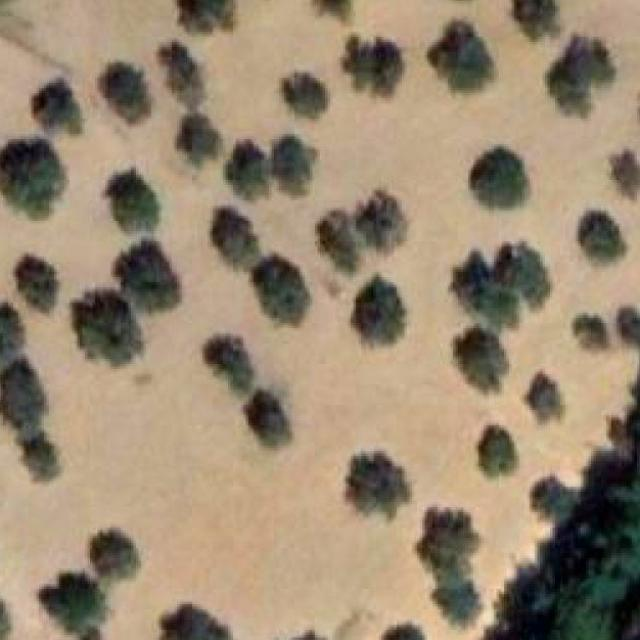Tree: (417, 507, 483, 626), (542, 32, 613, 116), (0, 137, 70, 216), (72, 295, 145, 366), (113, 239, 181, 313), (38, 573, 108, 640), (430, 21, 497, 86), (349, 451, 411, 518), (253, 255, 311, 323), (106, 55, 160, 123), (468, 146, 528, 207), (354, 277, 408, 342), (456, 326, 510, 391), (32, 80, 86, 140), (344, 39, 398, 99), (156, 47, 208, 109), (0, 359, 47, 425), (109, 170, 160, 230), (502, 244, 556, 300), (200, 337, 254, 391), (212, 207, 258, 269), (580, 207, 628, 266), (315, 210, 363, 268), (509, 0, 567, 48), (160, 604, 234, 640), (361, 194, 410, 248), (228, 144, 274, 200), (244, 389, 292, 442), (16, 430, 64, 480), (17, 254, 58, 312), (90, 530, 139, 578), (282, 70, 331, 118), (524, 374, 570, 421), (274, 137, 318, 186), (177, 0, 230, 40), (461, 260, 499, 312), (175, 116, 217, 162), (534, 479, 574, 524), (0, 296, 24, 369), (482, 428, 518, 472), (574, 313, 610, 357), (304, 0, 358, 26), (614, 302, 640, 350), (611, 149, 640, 190), (381, 624, 430, 640), (0, 584, 9, 640), (288, 632, 332, 640)
